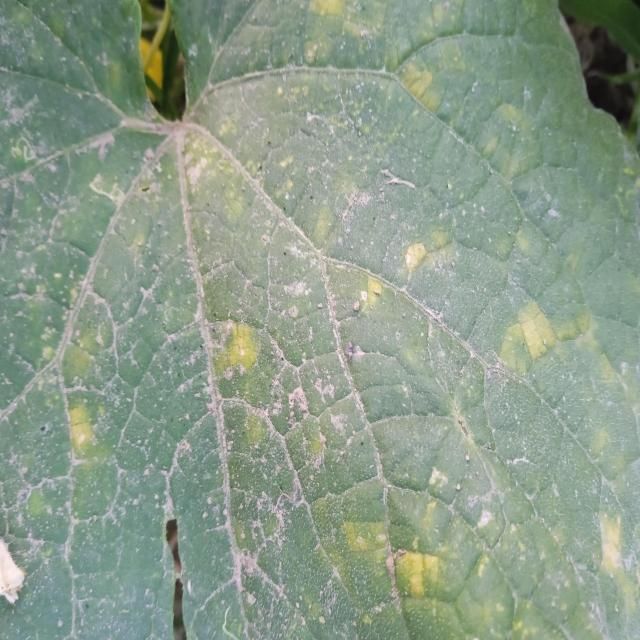cucumber_downy: (0, 106, 640, 640)
